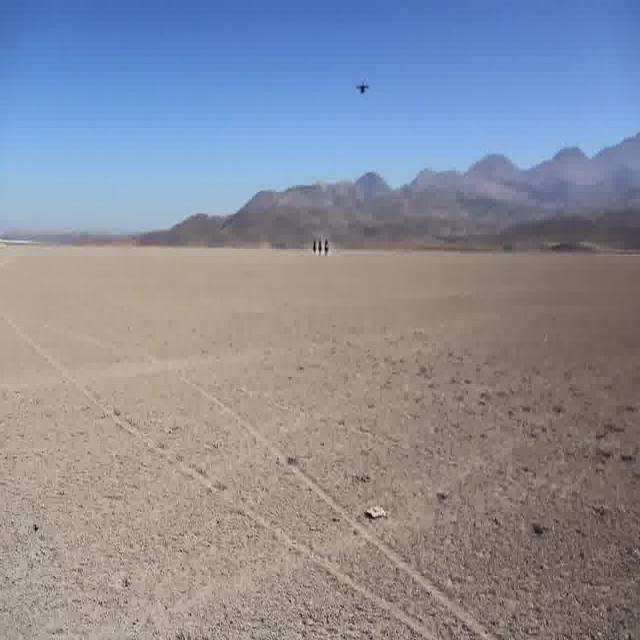drones: (351, 73, 375, 103)
